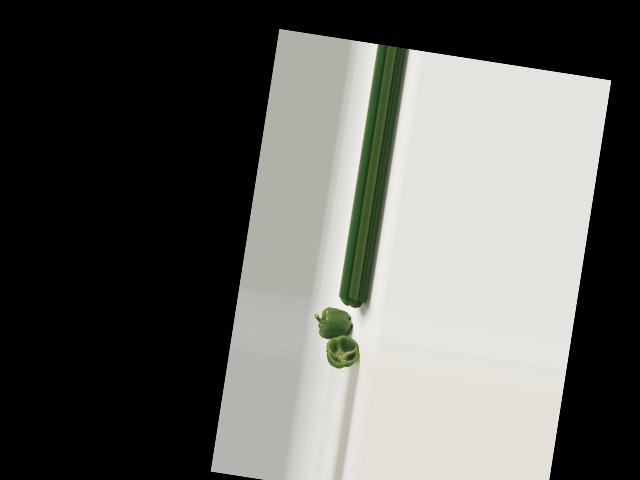bell_pepper: (319, 330, 364, 373)
